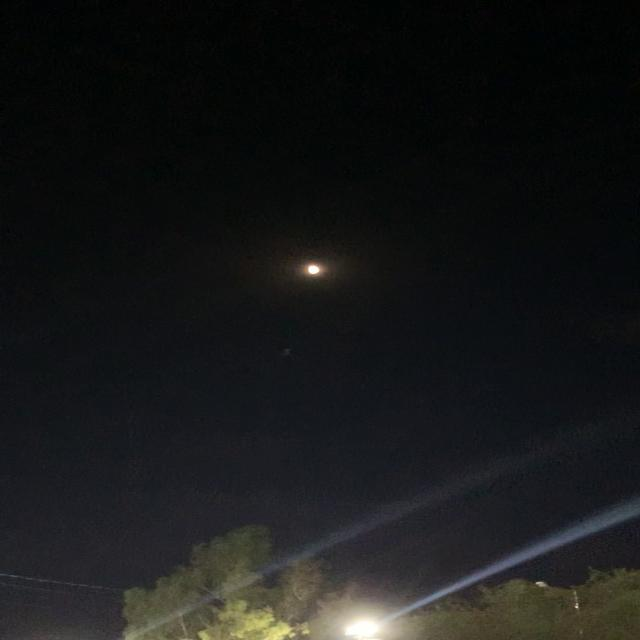moon: (290, 254, 337, 284)
